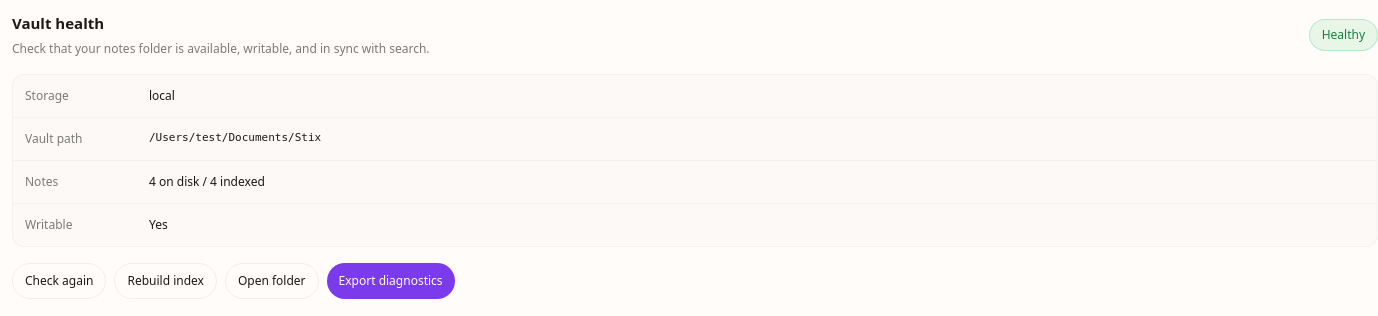
Scenario: VaultHealth › rebuilds the index and refreshes the report
Expected: the text "/Users/test/Documents/Stix" is shown, left=149, top=131, right=321, bottom=144
Click the button "Rebuild index" at (166, 281), box left=114, top=263, right=217, bottom=299
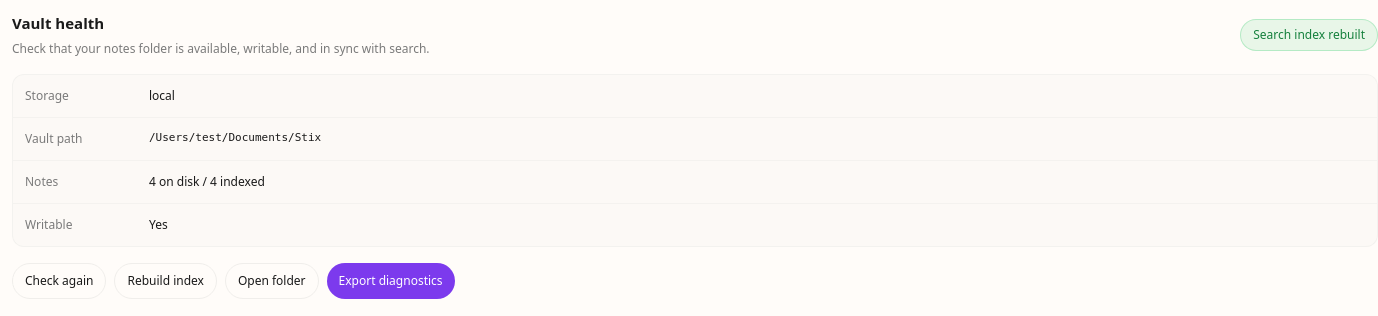
Expected: the message reads "Search index rebuilt", left=1253, top=26, right=1365, bottom=43
